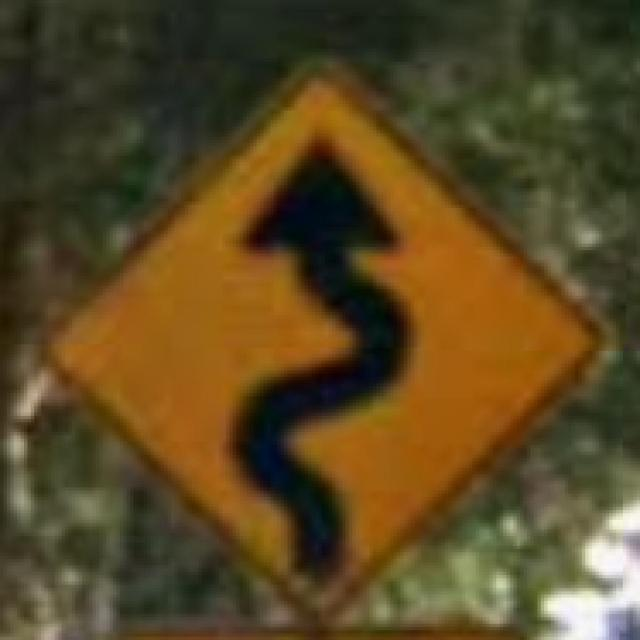Banyak Tikungan Pertama Kiri: (28, 49, 602, 624)
